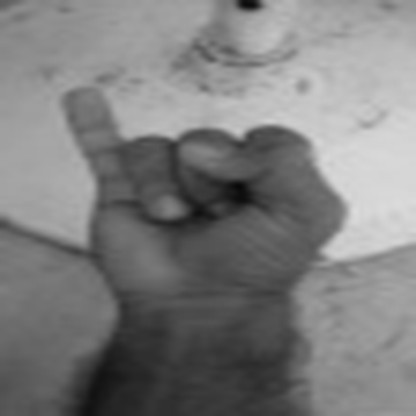i: (59, 83, 360, 314)
